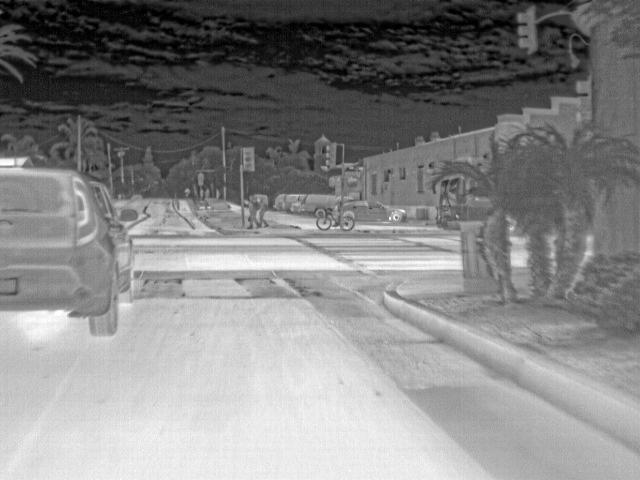car: (0, 164, 137, 337), (342, 199, 409, 223), (302, 193, 333, 216), (289, 191, 304, 214), (278, 192, 293, 212), (273, 192, 288, 211), (249, 192, 270, 198)
person: (242, 197, 258, 230), (256, 197, 269, 229), (214, 188, 222, 200), (204, 186, 211, 198), (199, 188, 205, 198)
